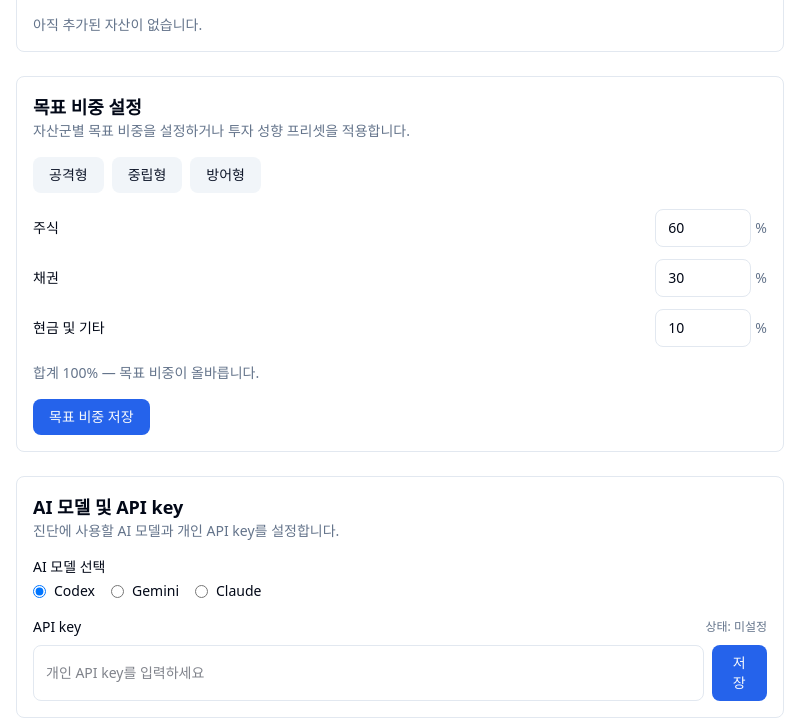
Test: SettingsPortfolioPanel — AI 모델/API key › 유효한 API key 저장 시 마스킹과 연동됨 상태를 표시한다
(page scrolled)
Expected: the number field named "주식 목표 비중" is shown, x1=655 y1=209 x2=751 y2=247
In the password field labelled "API key": (368, 673) x1=33 y1=645 x2=704 y2=701, type "secret-key-1234"
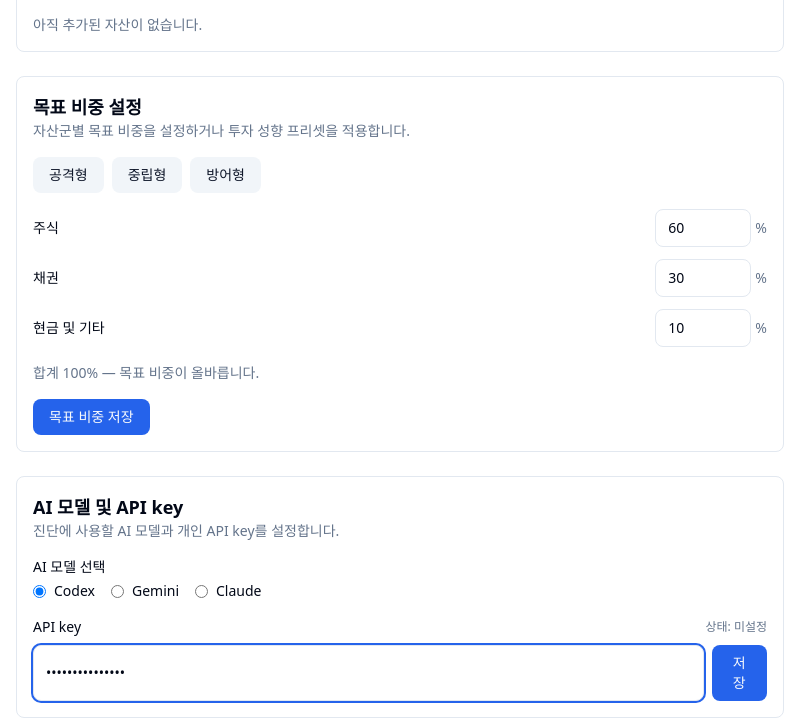
Click the button "저장": (739, 673) x1=712 y1=645 x2=767 y2=701
(page scrolled)
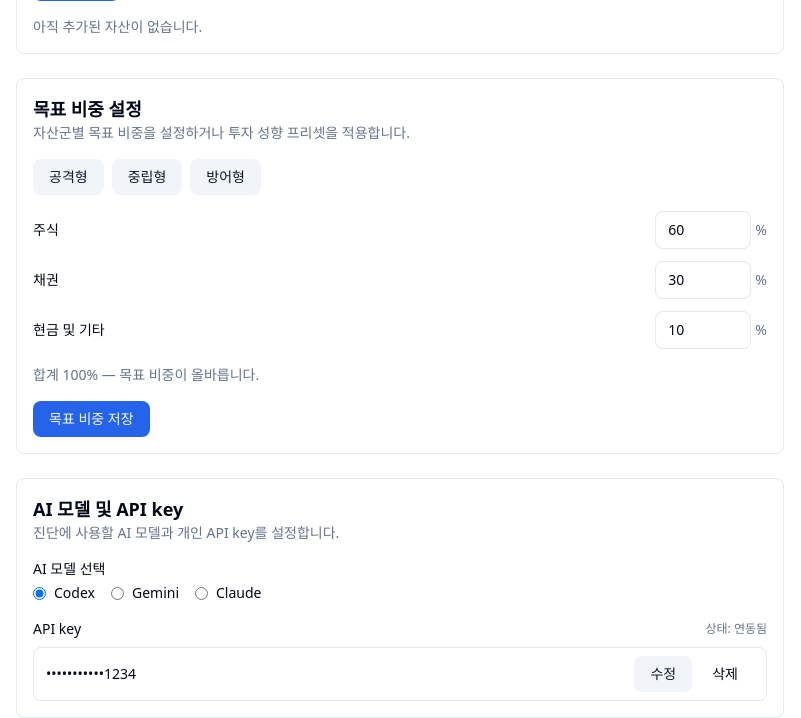
Expected: the text "연동됨" is shown, x1=734 y1=620 x2=767 y2=637
Expected: the text named "저장된 API key" shows "1234", x1=46 y1=664 x2=136 y2=683
Expected: the text named "저장된 API key" shows "•", x1=46 y1=664 x2=136 y2=683
